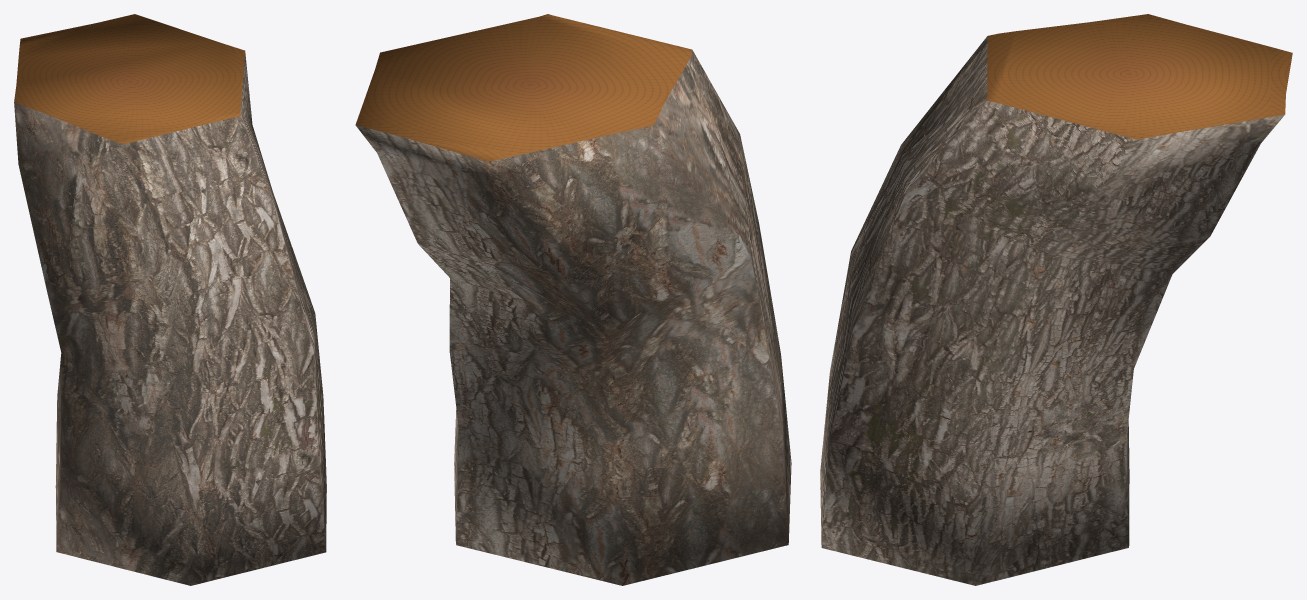
File: SM_MightyOak_LowerTrunk.fbx
3 renders of one model, left to right at view 1: azimuth 30°, elevation 25°; view 2: azimuth 150°, elevation 25°; view 3: azimuth 270°, elevation 25°, orthographic. The views are drawn at different scales.
Visible parts, largest first — view 1: SM_MightyOak_LowerTrunk; view 2: SM_MightyOak_LowerTrunk; view 3: SM_MightyOak_LowerTrunk.
Part boxes in pixels (bbox=[...]): SM_MightyOak_LowerTrunk: bbox=[14, 14, 326, 585]; SM_MightyOak_LowerTrunk: bbox=[355, 14, 791, 585]; SM_MightyOak_LowerTrunk: bbox=[820, 14, 1292, 585].
Bounding box in the file's own units: 0.7324 × 1 × 0.9731.
2 materials, 2 textured.
